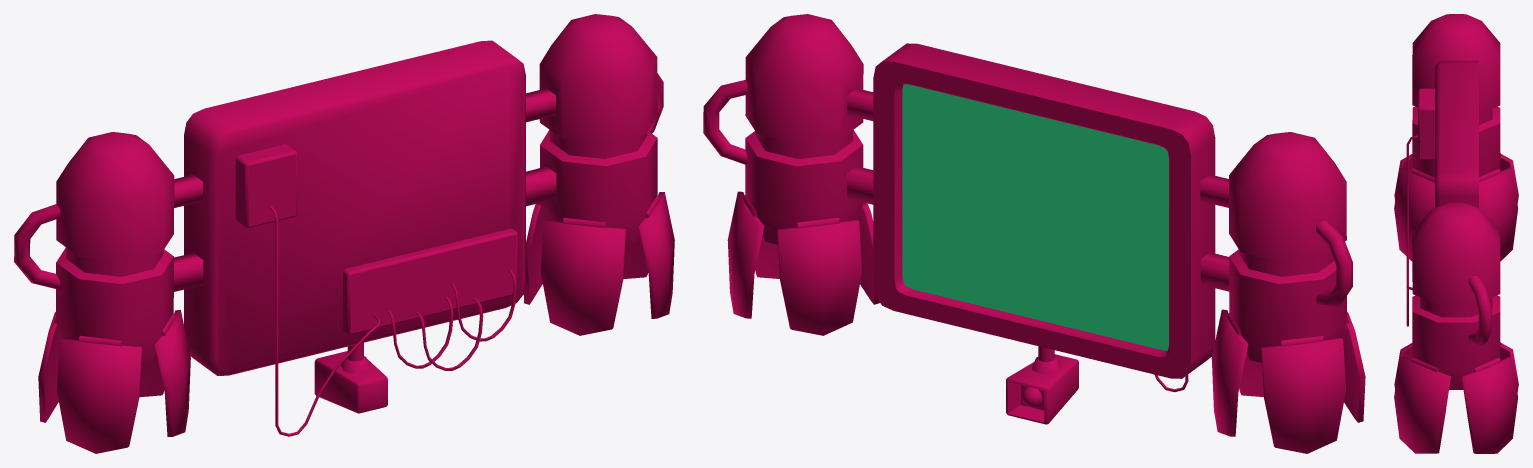
The model's file is TvScreen_low.FBX.
The picture shows the model from 3 angles, left to right: view 1: azimuth 30°, elevation 25°; view 2: azimuth 150°, elevation 25°; view 3: azimuth 270°, elevation 25°; orthographic projection. The views are drawn at different scales.
Parts seen in each view (by area): view 1: Box001, Cylinder013, Cylinder009, Sphere001, Cylinder010, Cylinder014, Cylinder008, Cylinder004, Cylinder012, Cylinder007, Cylinder011; view 2: Box001, Cylinder008, Cylinder012, Sphere001, Cylinder007, Cylinder011, Cylinder009, Cylinder013, Cylinder010, Cylinder014; view 3: Box001, Cylinder014, Cylinder011, Cylinder007, Cylinder010, Cylinder004, Cylinder012, Cylinder008, Cylinder013, Cylinder009.
Boxes of the visible parts, x1,y1,x2,y2 form: Box001: (14,14,663,375); Cylinder013: (541,217,625,335); Cylinder009: (57,335,141,453); Sphere001: (314,351,387,413); Cylinder010: (154,310,190,436); Cylinder014: (638,192,674,318); Cylinder008: (38,312,61,422); Cylinder004: (269,206,380,436); Cylinder012: (523,203,545,304); Cylinder007: (139,352,164,397); Cylinder011: (623,235,648,278); Box001: (703,14,1352,378); Cylinder008: (1261,336,1345,453); Cylinder012: (777,217,861,335); Sphere001: (1006,354,1078,424); Cylinder007: (1211,309,1248,436); Cylinder011: (727,191,764,318); Cylinder009: (1341,312,1365,422); Cylinder013: (857,202,879,304); Cylinder010: (1239,352,1263,396); Cylinder014: (755,234,779,278); Box001: (1412,14,1500,389); Cylinder014: (1394,356,1450,453); Cylinder011: (1461,356,1517,453); Cylinder007: (1479,167,1517,261); Cylinder010: (1394,167,1434,261); Cylinder004: (1406,135,1417,326); Cylinder012: (1500,342,1518,392); Cylinder008: (1500,153,1518,203); Cylinder013: (1394,343,1412,389); Cylinder009: (1394,154,1412,200).
Bounding box in the file's own units: 8.14 × 3.9 × 1.7.
